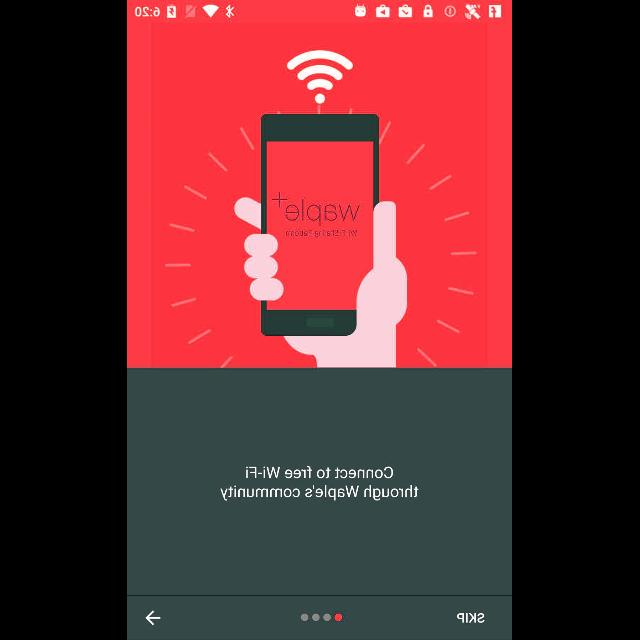icon: (146, 610, 162, 626)
image: (166, 50, 478, 368)
pageindicator: (301, 614, 343, 622)
text: (220, 466, 420, 502), (457, 612, 485, 624)
uppertaskbar: (128, 1, 512, 21)
